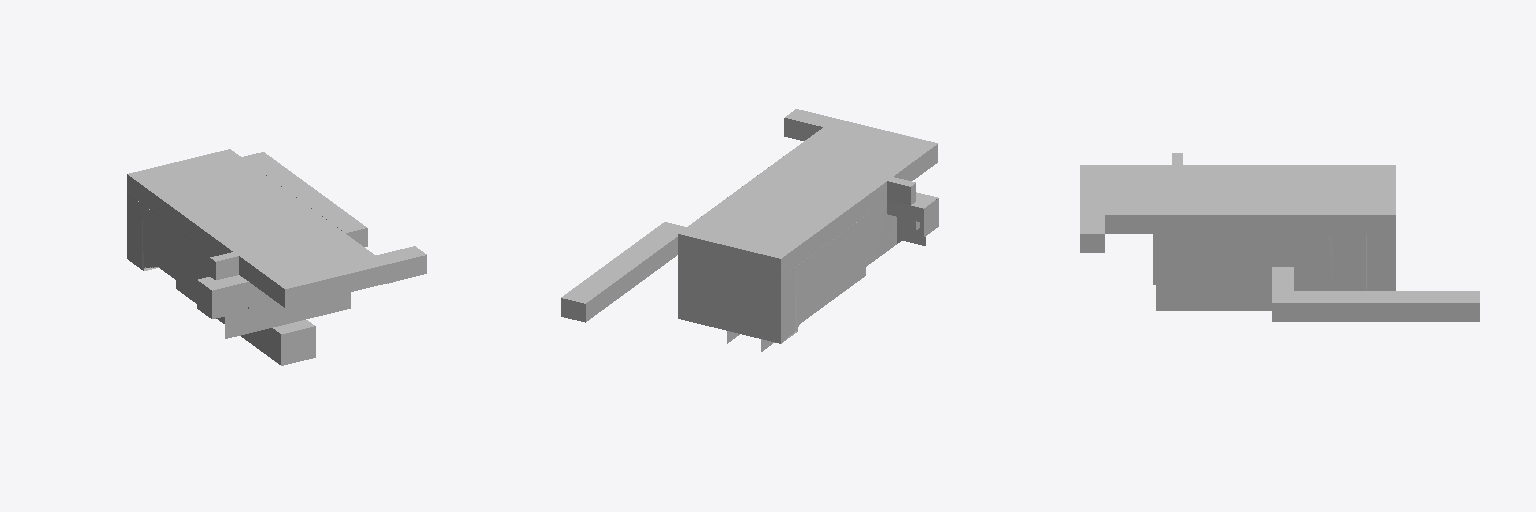
File: SalleCegep.obj
3 views of the same model, side by side, from view 1: azimuth 30°, elevation 25°; view 2: azimuth 150°, elevation 25°; view 3: azimuth 270°, elevation 25° (orthographic).
Size of the model in its own units: 32.8 by 16.56 by 52.75.